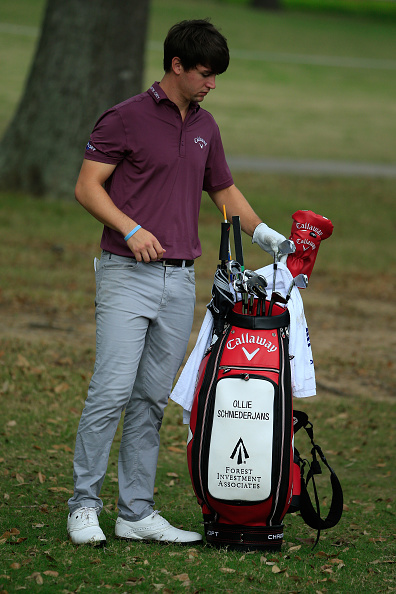em pe: (64, 24, 291, 562)
